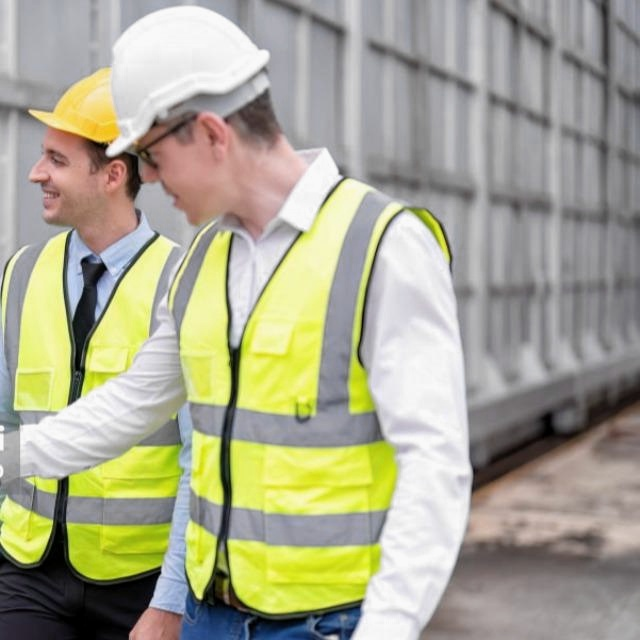Con_Chaleco: (175, 193, 469, 606), (0, 233, 195, 559)
